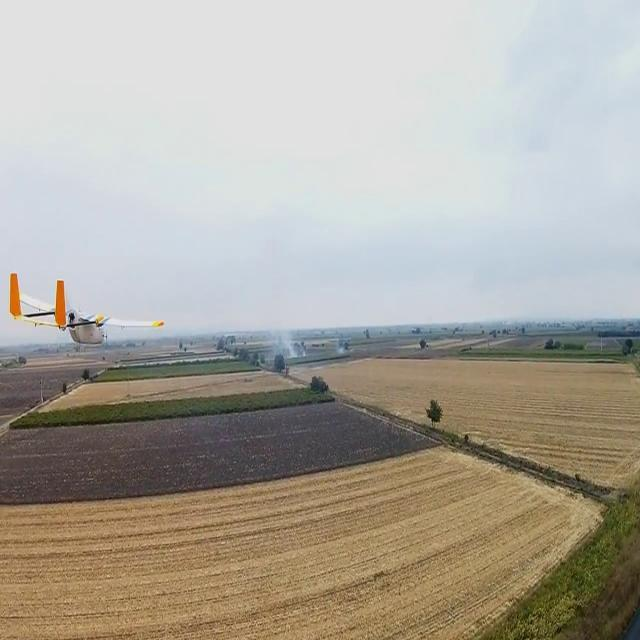iha: (0, 294, 99, 321)
